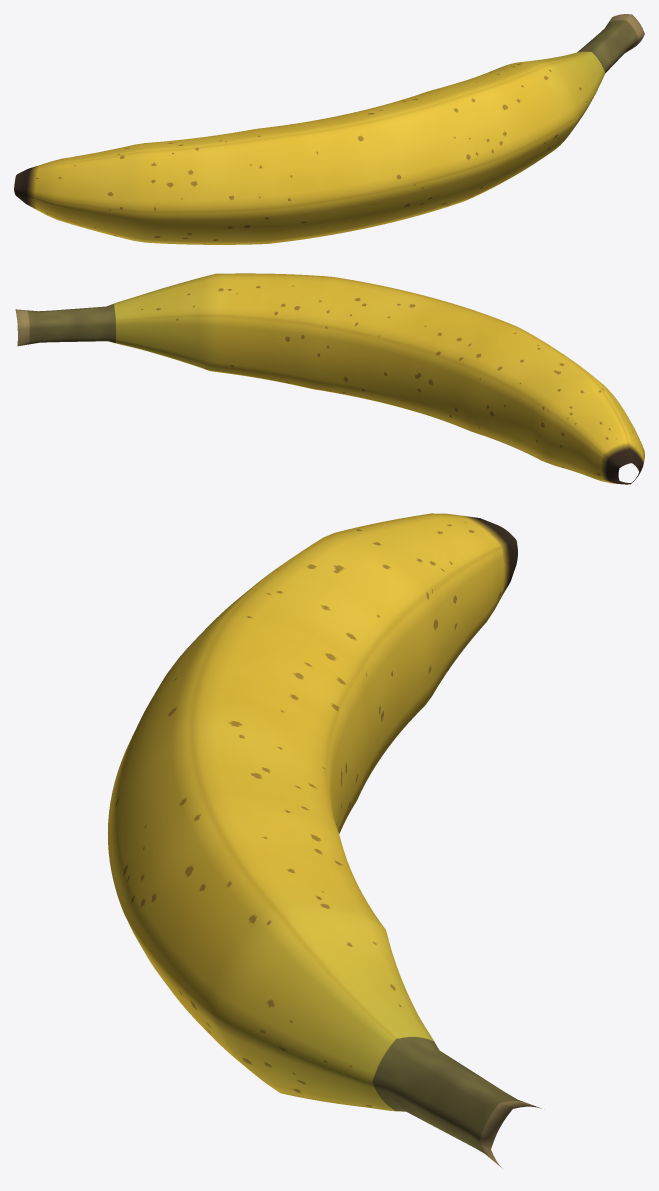
3 renders of one model, top to bottom at view 1: azimuth 30°, elevation 25°; view 2: azimuth 150°, elevation 25°; view 3: azimuth 270°, elevation 25°, orthographic. The views are drawn at different scales.
Visible parts, largest first — view 1: Banana; view 2: Banana; view 3: Banana.
Part boxes in pixels (x1,y1,x2,y2): Banana: [14, 14, 644, 244]; Banana: [15, 273, 644, 484]; Banana: [108, 513, 541, 1168].
Bounding box in the file's own units: 0.221 × 0.0352 × 0.068.
1 material, 1 textured.
